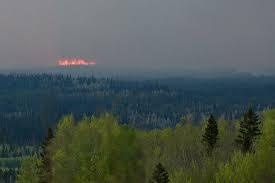fire: (57, 55, 96, 64)
